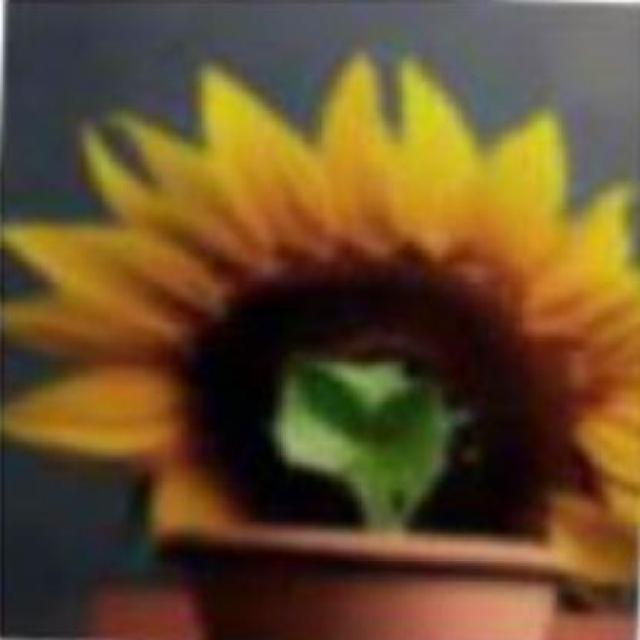sunflower: (0, 44, 640, 541)
